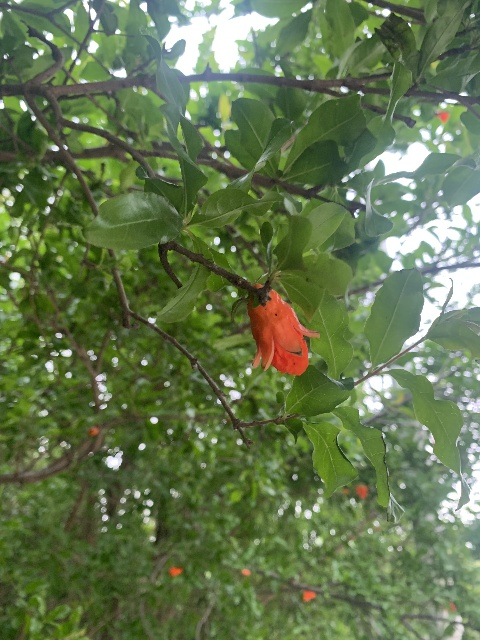flower: (247, 286, 320, 376)
